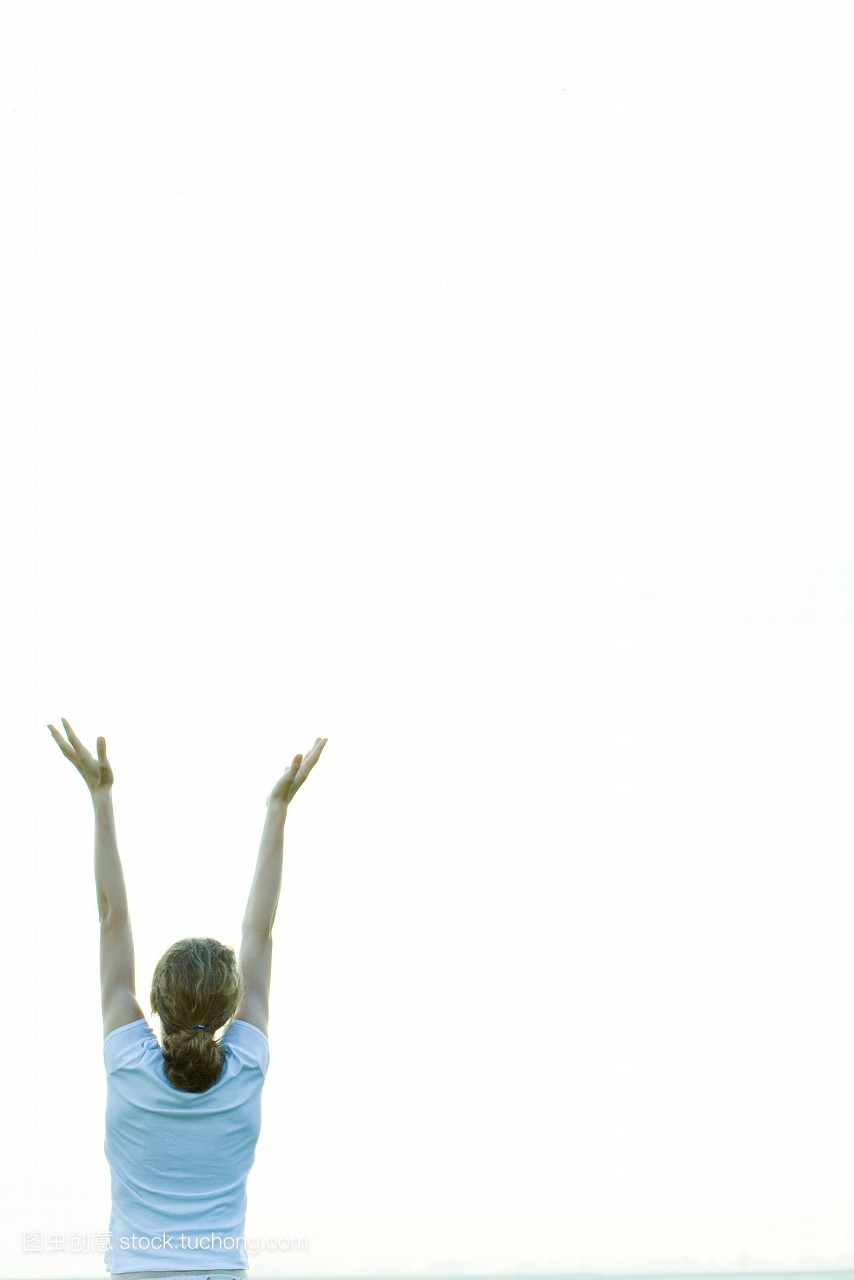handsup: (38, 694, 338, 1280)
